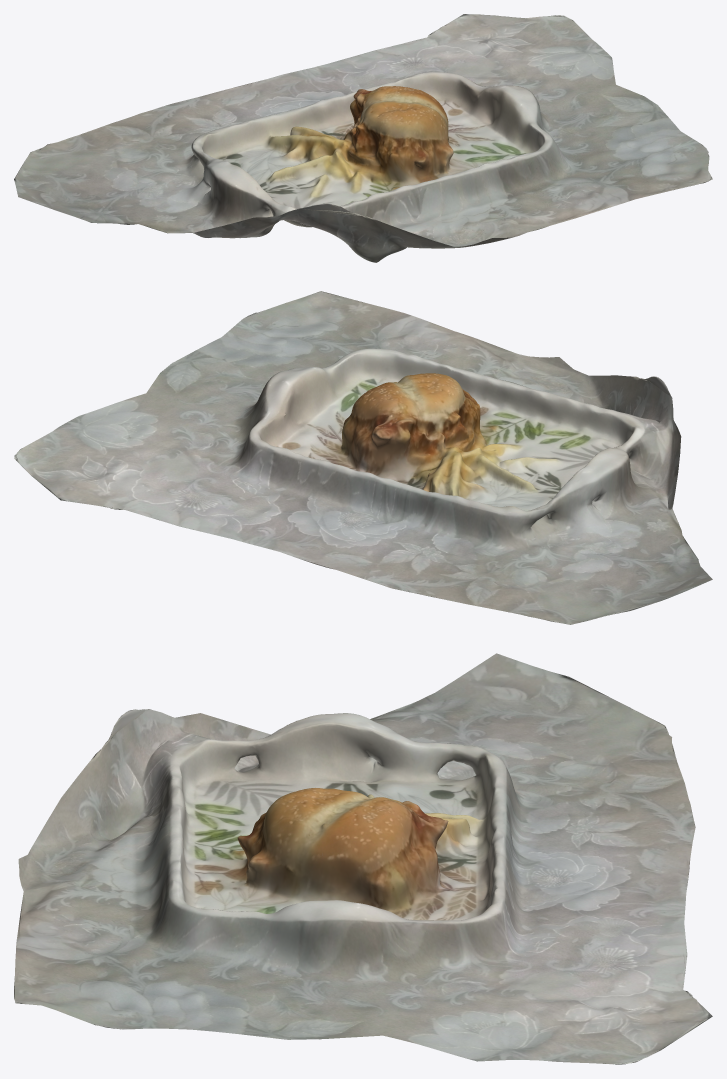
The model's file is subject5.glb.
The picture shows the model from 3 angles, top to bottom: view 1: azimuth 30°, elevation 25°; view 2: azimuth 150°, elevation 25°; view 3: azimuth 270°, elevation 25°; orthographic projection. The views are drawn at different scales.
Visible parts, largest first — view 1: Node1; view 2: Node1; view 3: Node1.
Part boxes in pixels (x1,y1,x2,y2): Node1: [14, 14, 712, 262]; Node1: [14, 291, 712, 624]; Node1: [14, 653, 712, 1064].
Size of the model in its own units: 1.59 by 0.2059 by 1.13.
Materials: 1 (1 with a texture image).
